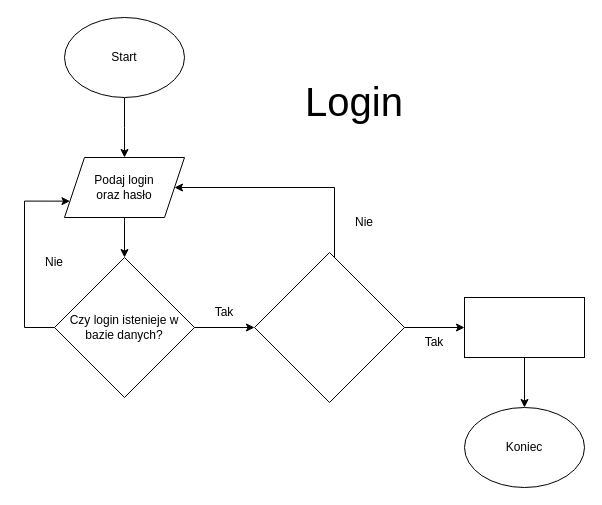
Image size: 602x505. Some labels were removed from this diagram. Here are the shapes that lost their labels. From the top down, the centre of each, then its label:
At point 329,327: "Czy login oraz hasło się zgadzają?".
At point 524,327: "Zaloguj użytkownika".
